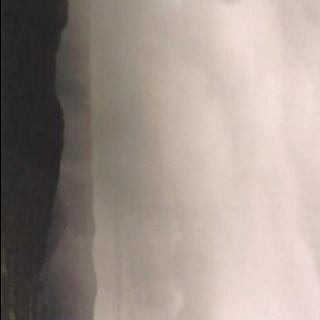Stratocumulus: (99, 0, 320, 320)
